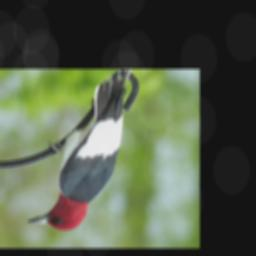Woodpecker: (25, 69, 135, 232)
